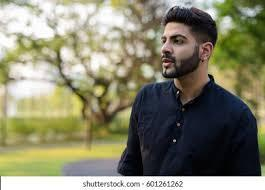Human: (117, 2, 260, 186)
